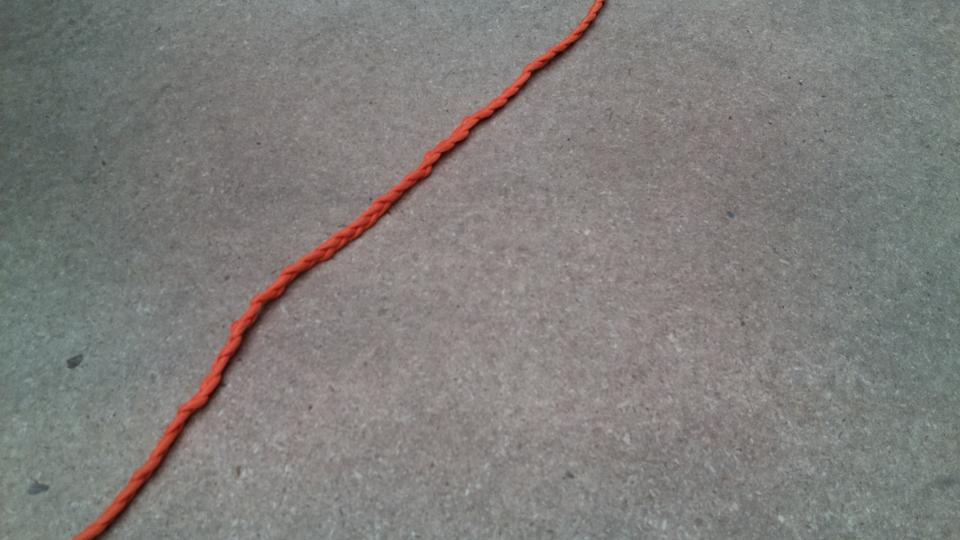rope: (78, 1, 607, 533)
